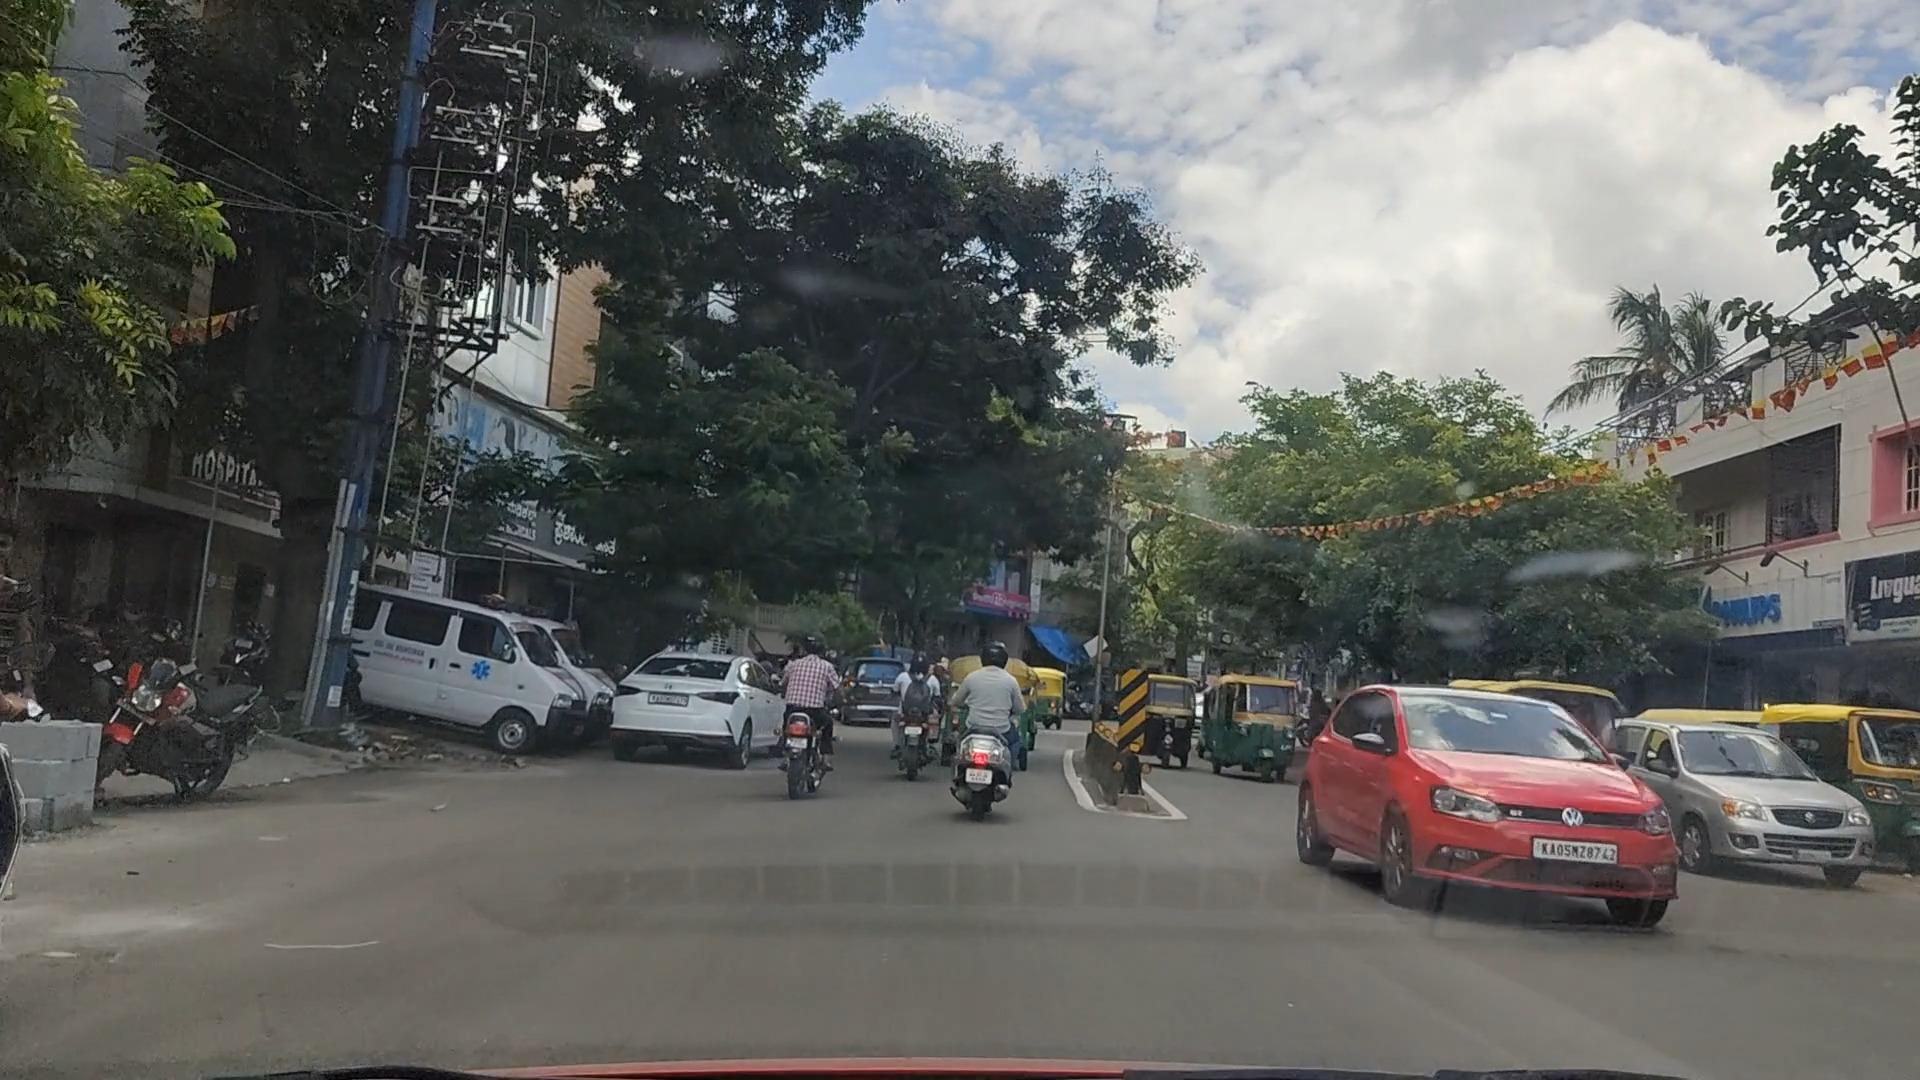LMV: (583, 658, 761, 778), (940, 647, 1051, 839), (742, 646, 853, 804)
RoadDamages: (16, 858, 392, 1047)
